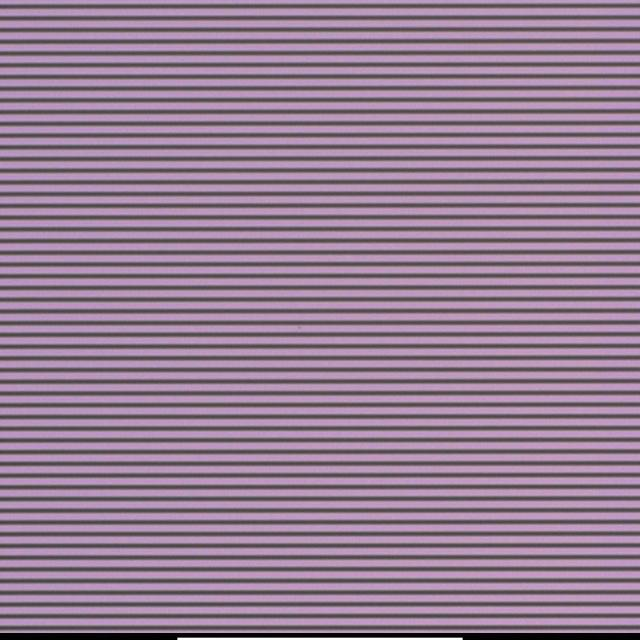03_intrusion: (295, 325, 303, 335)
